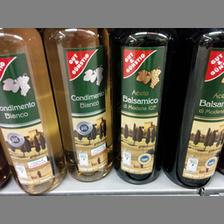Essig: (42, 29, 114, 181), (0, 28, 64, 194), (162, 28, 222, 186), (116, 28, 173, 184)
